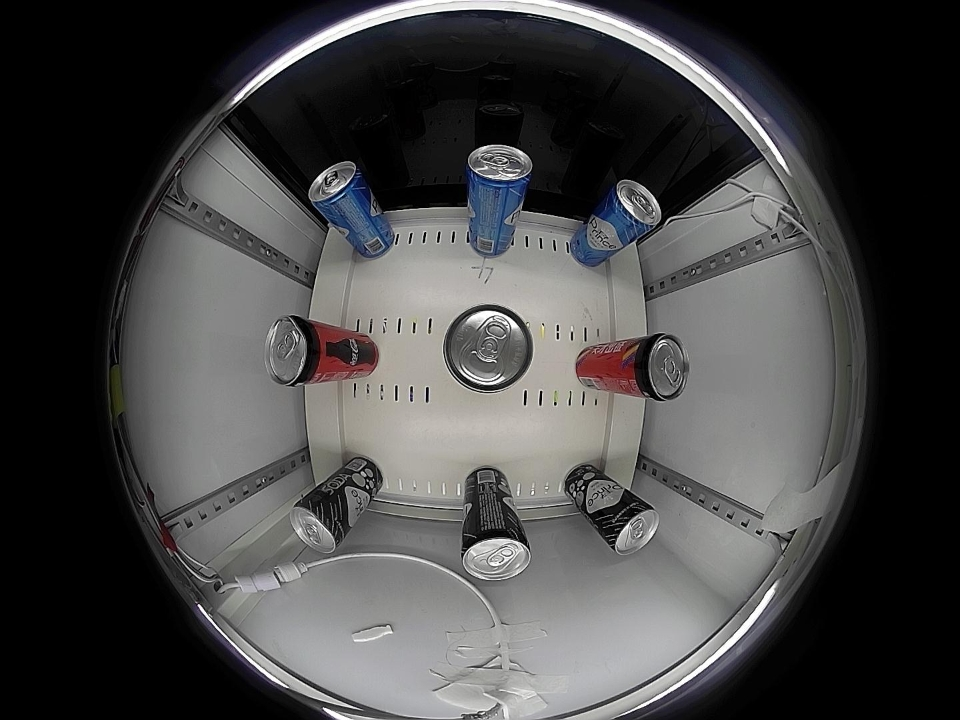lingdukele: (442, 304, 534, 393), (264, 315, 331, 387), (625, 332, 689, 402)
qingdaowangzi-1: (461, 520, 531, 581), (602, 496, 660, 555), (290, 495, 347, 553)
qingdaowangzi-2: (466, 144, 533, 202), (309, 161, 369, 217), (605, 180, 662, 236)
